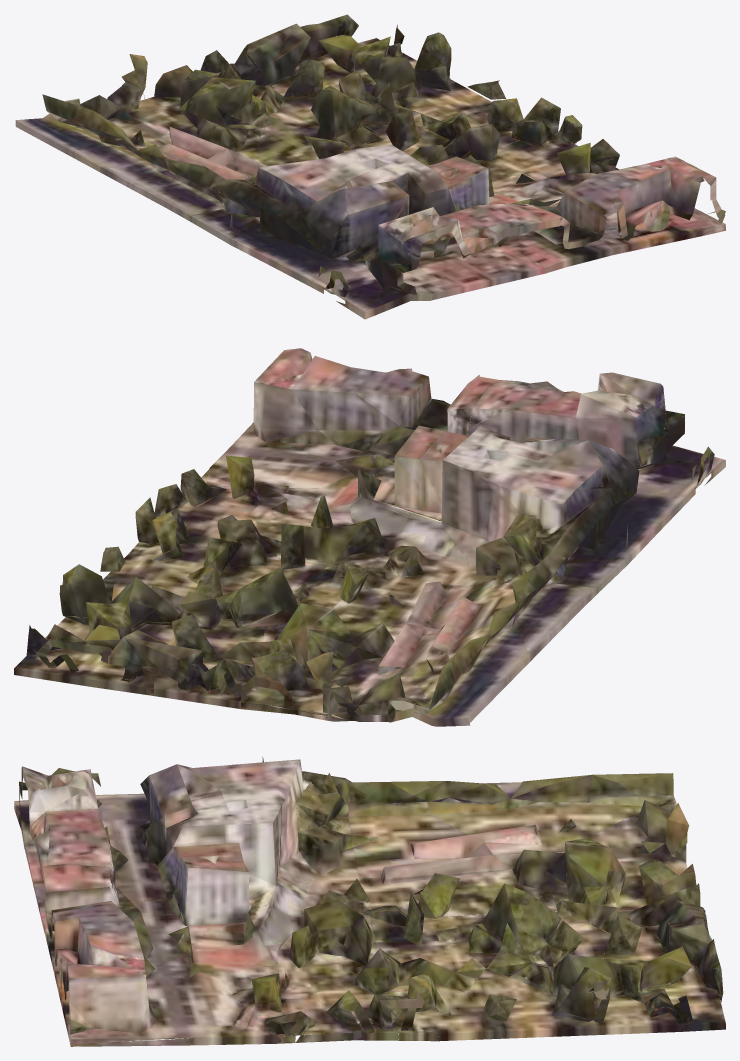
3 renders of one model, top to bottom at view 1: azimuth 30°, elevation 25°; view 2: azimuth 150°, elevation 25°; view 3: azimuth 270°, elevation 25°, orthographic. The views are drawn at different scales.
Parts seen in each view (by area): view 1: Mesh_0; view 2: Mesh_0; view 3: Mesh_0.
Boxes of the visible parts, box(x1,y1,x2,y2) form: Mesh_0: box(15, 14, 725, 319); Mesh_0: box(14, 348, 725, 726); Mesh_0: box(14, 756, 725, 1046).
Bounding box in the file's own units: 267 × 59.58 × 330.
2 materials, 2 textured.
